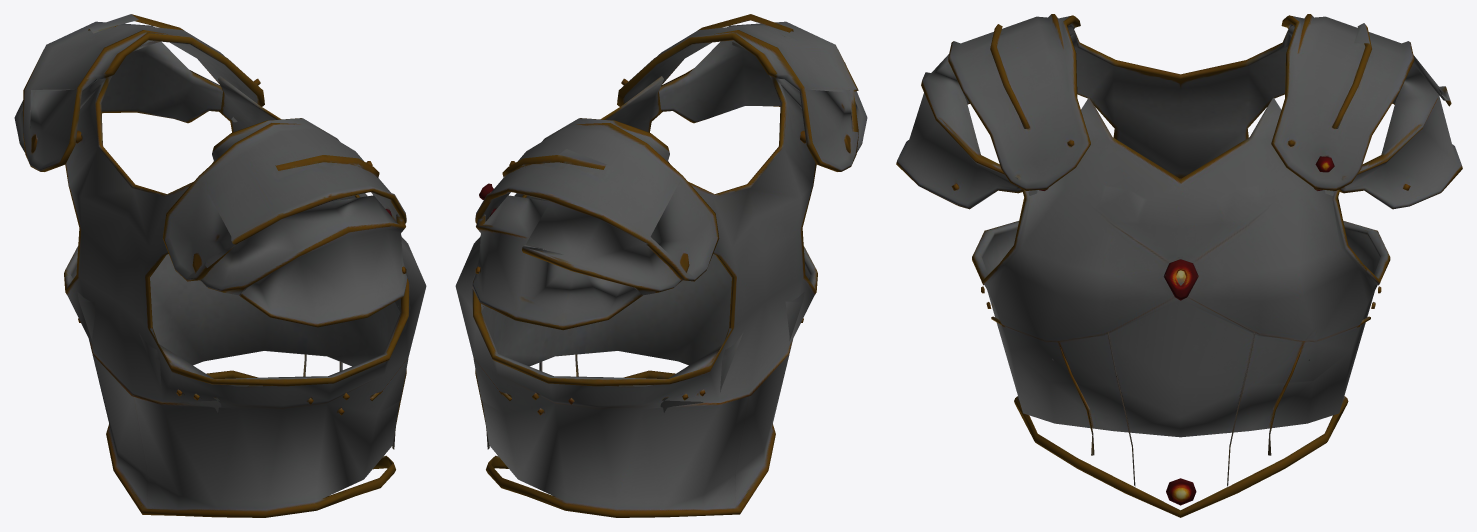
Rendered from padded_jerkin.glb.
3 views of the same model, side by side, from view 1: azimuth 30°, elevation 25°; view 2: azimuth 150°, elevation 25°; view 3: azimuth 270°, elevation 25° (orthographic).
Visible parts, largest first — view 1: base_model_path; view 2: base_model_path; view 3: base_model_path.
Part boxes in pixels (left/top/right/bottom): base_model_path: left=14, top=14, right=426, bottom=517; base_model_path: left=455, top=14, right=867, bottom=517; base_model_path: left=896, top=14, right=1462, bottom=517.
Bounding box in the file's own units: 0.5338 × 0.8036 × 0.9776.
1 material, 1 textured.
